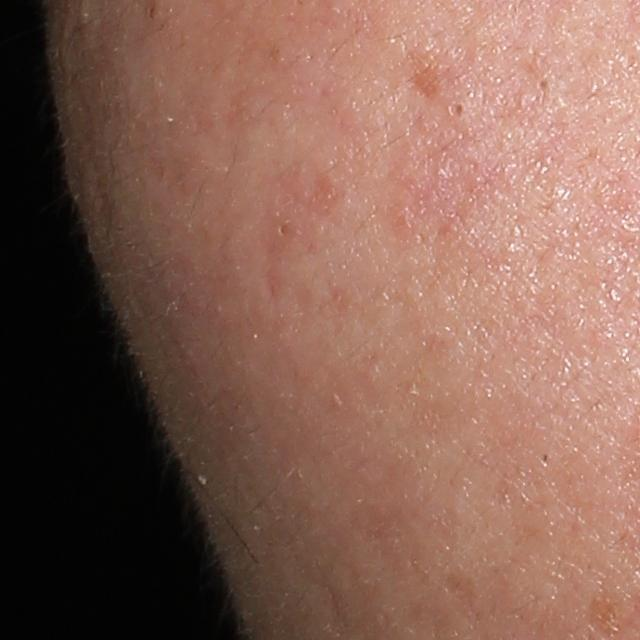comedo: (524, 70, 567, 104), (442, 92, 474, 128)
